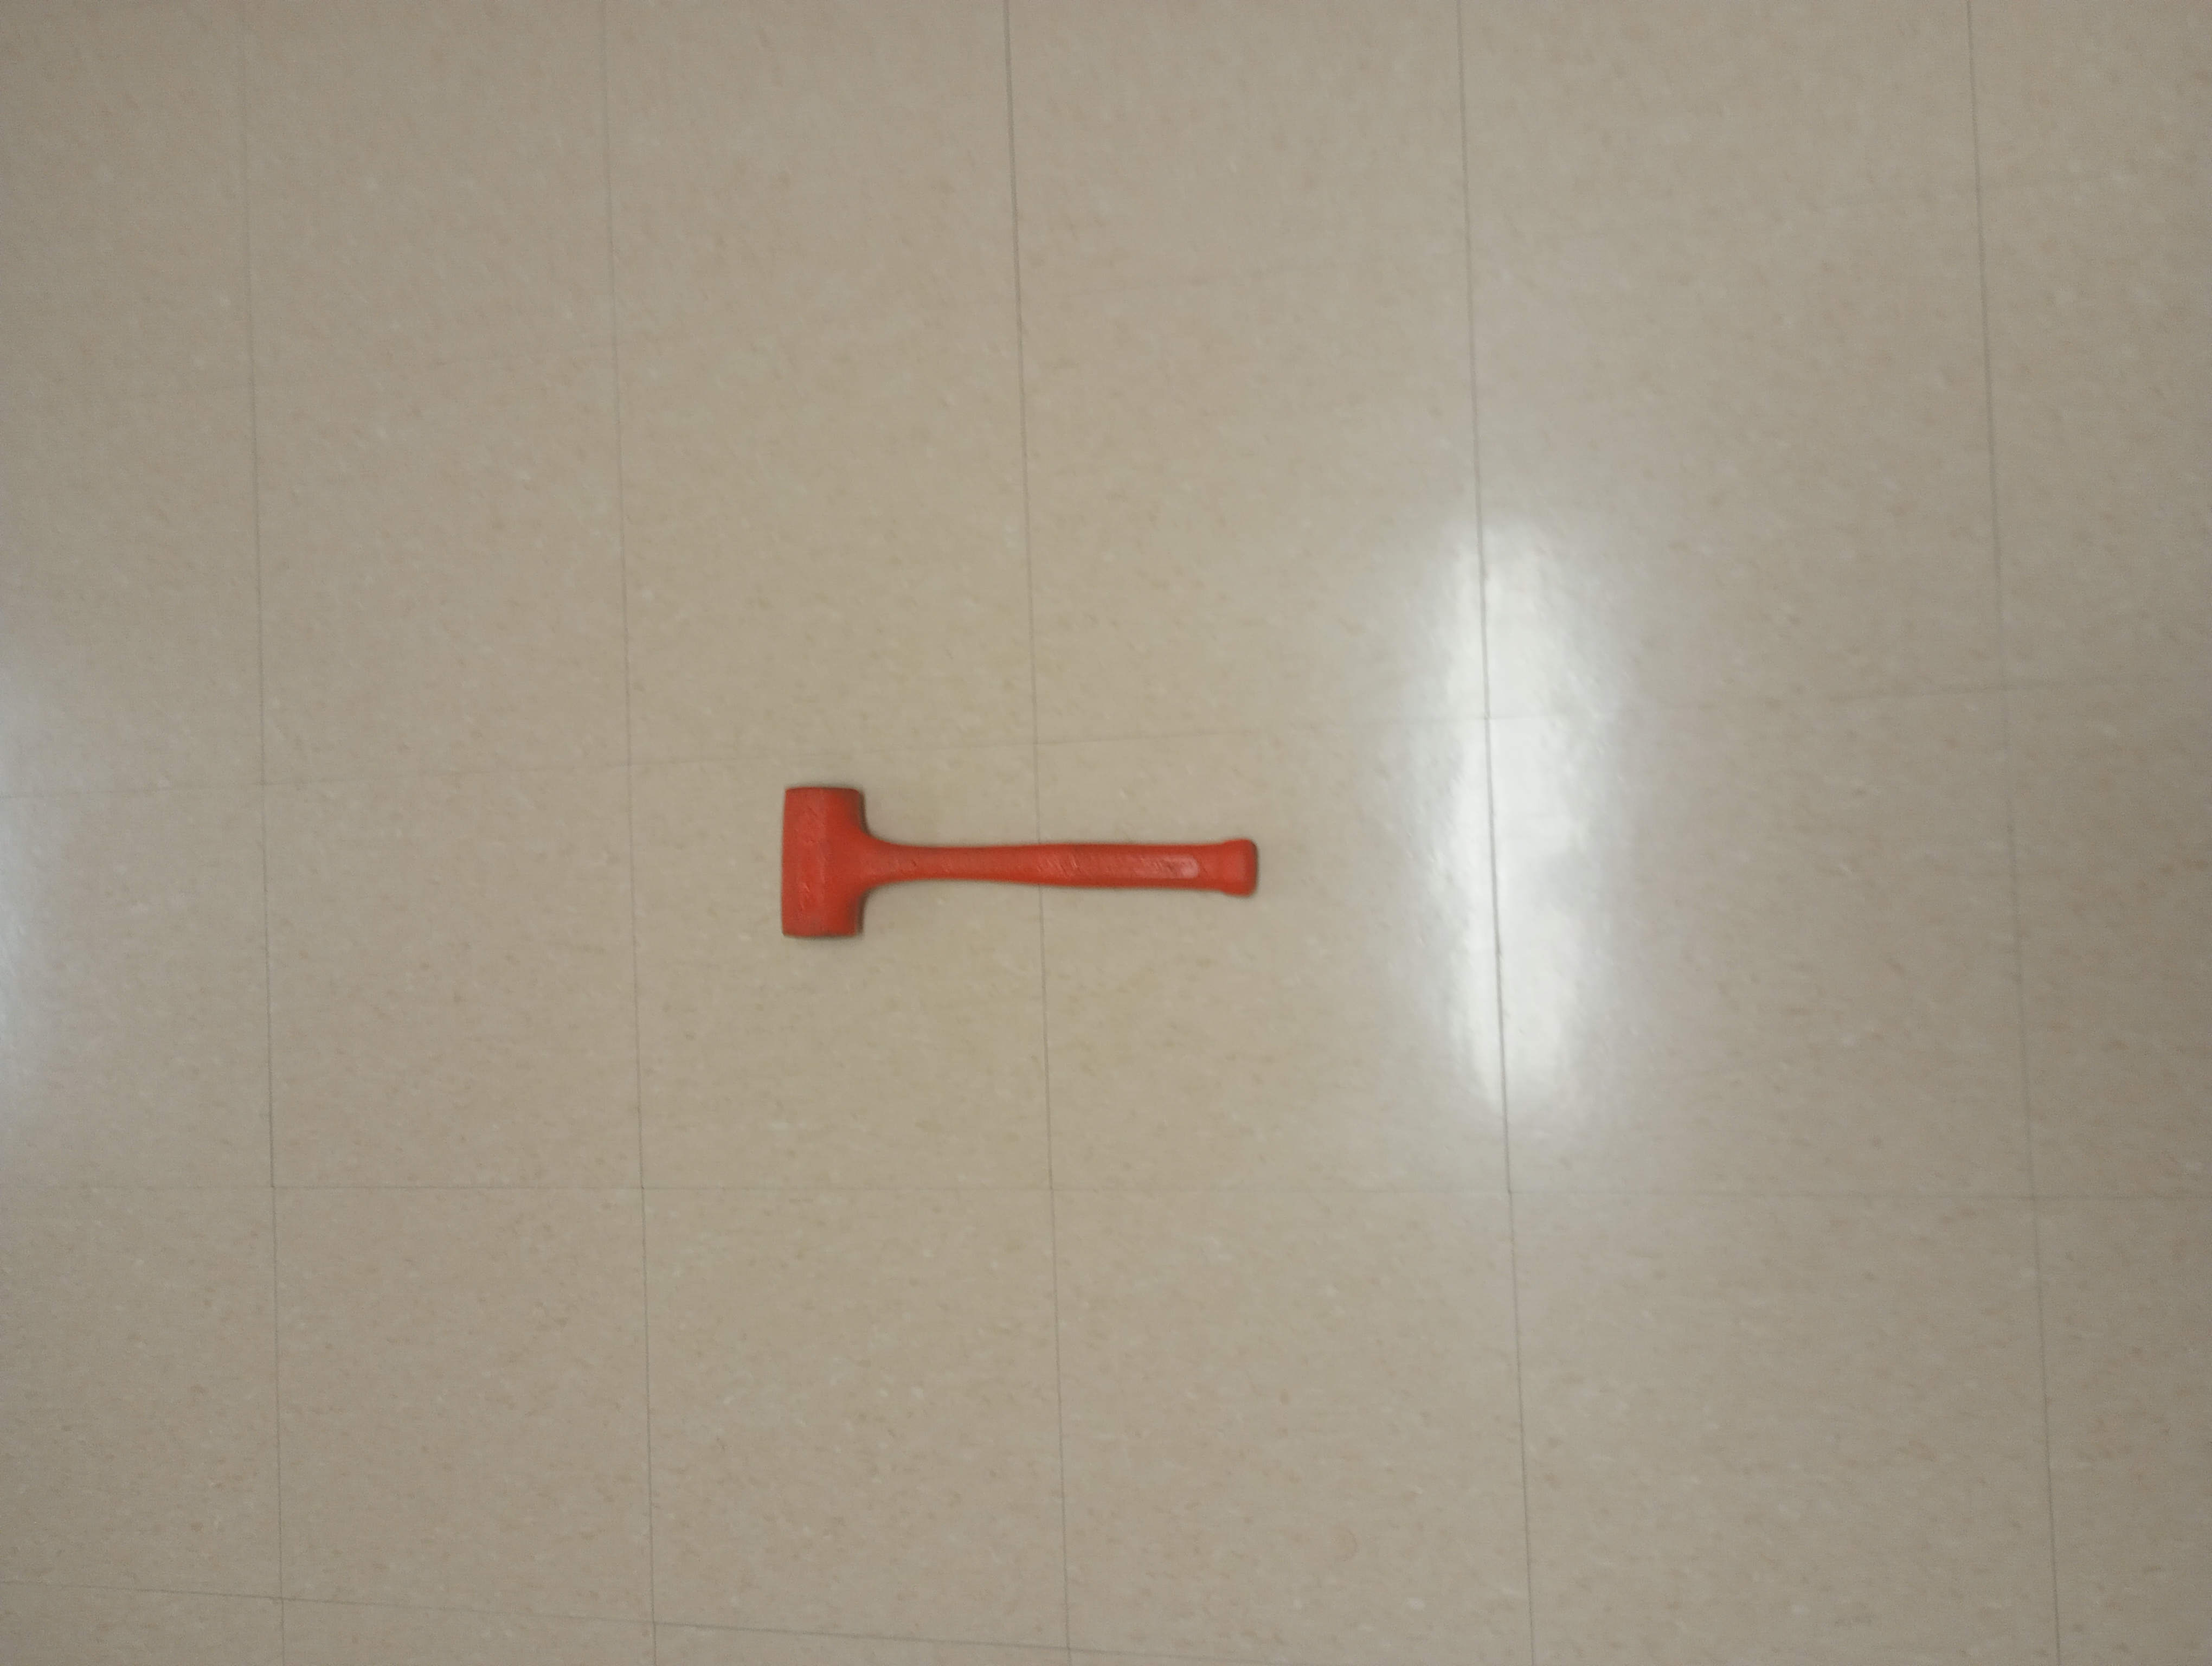bottle: (771, 773, 1269, 950)
